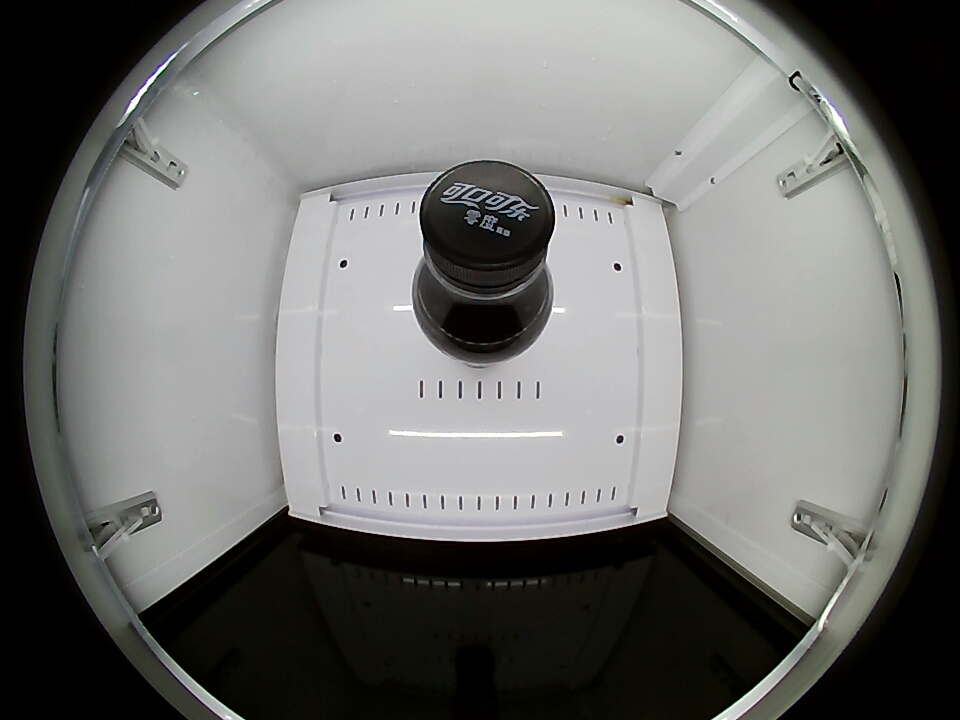lingdukele-b: (413, 161, 556, 345)
